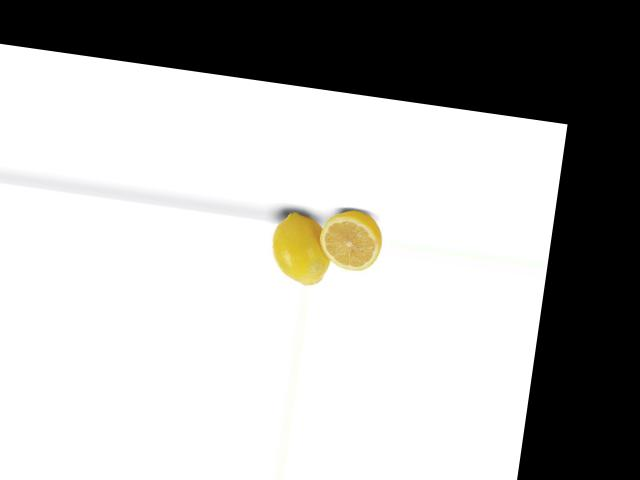lemon: (262, 205, 340, 290)
